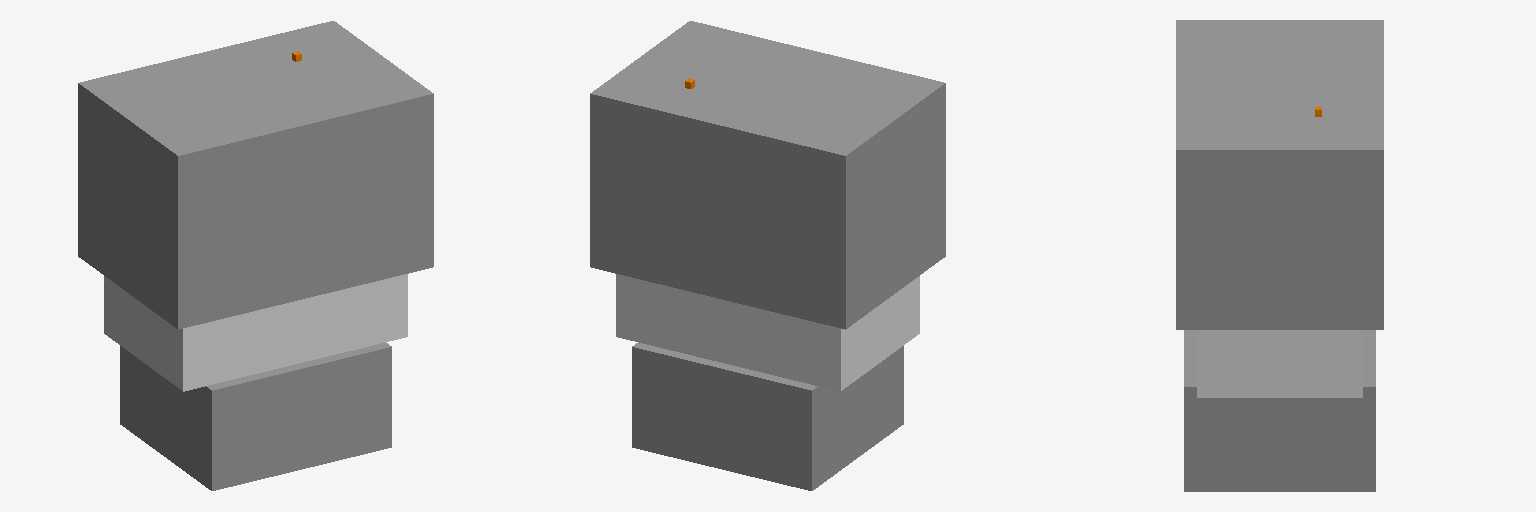
URDF robot description (assembly_simplified_tall):
<!--URDF generated by ONSHAPE BY PTC INC, 1.221-->
<robot name="assembly_simplified_tall">
    <link name="electronics">
        <inertial>
            <mass value="0.071506" />
            <origin xyz="4.01582e-18 2.1684e-19 0.0181" rpy="0 -0 0" />
            <inertia ixx="1.63229e-05" ixy="0" ixz="0" iyy="2.63623e-05" iyz="0" izz="2.70679e-05" />
        </inertial>
        <visual>
            <origin xyz="3.21266e-18 1.34461e-34 -0.0254042" rpy="0 -0 0" />
            <geometry>
                <mesh filename="package://assembly_simplified_tall/meshes/Electronics.stl" scale="1 1 1" />
            </geometry>
            <material name="0.647059_0.647059_0.647059_0.000000_0.000000">
                <color rgba="0.647059 0.647059 0.647059 1" />
            </material>
        </visual>
    </link>
    <link name="lipos">
        <inertial>
            <mass value="0.040025" />
            <origin xyz="2.36507e-18 1.57209e-18 0.007625" rpy="0 -0 0" />
            <inertia ixx="3.81773e-06" ixy="0" ixz="0" iyy="8.81675e-06" iyz="0" izz="1.10831e-05" />
        </inertial>
        <visual>
            <origin xyz="2.36507e-18 0.00015 -0.0101542" rpy="0 -0 0" />
            <geometry>
                <mesh filename="package://assembly_simplified_tall/meshes/Lipos.stl" scale="1 1 1" />
            </geometry>
            <material name="0.901961_0.901961_0.901961_0.000000_0.000000">
                <color rgba="0.901961 0.901961 0.901961 1" />
            </material>
        </visual>
    </link>
    <link name="motor_base">
        <inertial>
            <mass value="0.0422448" />
            <origin xyz="0 -1.46515e-18 0.0290064" rpy="0 -0 0" />
            <inertia ixx="5.81773e-06" ixy="0" ixz="0" iyy="6.9916e-06" iyz="0" izz="9.70056e-06" />
        </inertial>
        <visual>
            <origin xyz="0 0 0.0293586" rpy="0 -0 0" />
            <geometry>
                <mesh filename="package://assembly_simplified_tall/meshes/Motor_base.stl" scale="1 1 1" />
            </geometry>
            <material name="0.647059_0.647059_0.647059_0.000000_0.000000">
                <color rgba="0.647059 0.647059 0.647059 1" />
            </material>
        </visual>
    </link>
    <link name="root" />
    <link name="sensor_imu">
        <inertial>
            <mass value="2.744e-09" />
            <origin xyz="-3.46945e-18 -1.73472e-18 0.0007" rpy="0 -0 0" />
            <inertia ixx="0" ixy="0" ixz="0" iyy="0" iyz="0" izz="0" />
        </inertial>
        <visual>
            <origin xyz="-0.013 -0.007 -0.0416042" rpy="0 -0 0" />
            <geometry>
                <mesh filename="package://assembly_simplified_tall/meshes/sensor_imu.stl" scale="1 1 1" />
            </geometry>
            <material name="0.972549_0.529412_0.003922_0.000000_0.000000">
                <color rgba="0.972549 0.529412 0.00392157 1" />
            </material>
        </visual>
    </link>
    <link name="sketch_9__1_">
        <inertial>
            <mass value="1e-09" />
            <origin xyz="0 0 0" rpy="0 -0 0" />
            <inertia ixx="4e-14" ixy="0" ixz="0" iyy="4e-14" iyz="0" izz="4e-14" />
        </inertial>
    </link>
    <link name="wheel">
        <inertial>
            <mass value="0.0281308" />
            <origin xyz="-0.007075 -8.36114e-19 -1.73472e-18" rpy="0 -0 0" />
            <inertia ixx="7.1206e-06" ixy="0" ixz="0" iyy="4.02967e-06" iyz="0" izz="4.02967e-06" />
        </inertial>
        <visual>
            <origin xyz="0.02765 1.80969e-81 0.00685857" rpy="0 -0 0" />
            <geometry>
                <mesh filename="package://assembly_simplified_tall/meshes/Wheel.stl" scale="1 1 1" />
            </geometry>
            <material name="0.972549_0.529412_0.003922_0.000000_0.000000">
                <color rgba="0.972549 0.529412 0.00392157 1" />
            </material>
        </visual>
    </link>
    <link name="wheel_1">
        <inertial>
            <mass value="0.0281308" />
            <origin xyz="-0.007075 4.33681e-19 -2.60209e-18" rpy="2.74796 -4.17097e-16 8.31691e-17" />
            <inertia ixx="7.1206e-06" ixy="0" ixz="0" iyy="4.02967e-06" iyz="0" izz="4.02967e-06" />
        </inertial>
        <visual>
            <origin xyz="0.02765 -0.0026306 -0.00633403" rpy="2.74796 -4.17097e-16 8.31691e-17" />
            <geometry>
                <mesh filename="package://assembly_simplified_tall/meshes/Wheel.stl" scale="1 1 1" />
            </geometry>
            <material name="0.972549_0.529412_0.003922_0.000000_0.000000">
                <color rgba="0.972549 0.529412 0.00392157 1" />
            </material>
        </visual>
    </link>
    <joint name="fastened_1" type="fixed">
        <origin xyz="0 0 0" rpy="0 -0 0" />
        <axis xyz="-0 -0 -1" />
        <parent link="root" />
        <child link="motor_base" />
    </joint>
    <joint name="fastened_2" type="fixed">
        <origin xyz="-4.50423e-18 -1.35525e-18 0.0395128" rpy="1.35525e-16 6.93335e-33 0" />
        <axis xyz="-1.13185e-16 -2.46519e-32 -1" />
        <parent link="motor_base" />
        <child link="lipos" />
    </joint>
    <joint name="fastened_3" type="fixed">
        <origin xyz="2.67866e-18 -3.20291e-18 0.01525" rpy="-2.46519e-32 -6.93335e-33 9.39644e-49" />
        <axis xyz="5.37867e-64 5.29287e-33 -1" />
        <parent link="lipos" />
        <child link="electronics" />
    </joint>
    <joint name="fastened_4" type="fixed">
        <origin xyz="0.013 0.007 0.0362" rpy="0 -0 0" />
        <axis xyz="0 0 -1" />
        <parent link="electronics" />
        <child link="sensor_imu" />
    </joint>
    <joint name="fastened_5" type="fixed">
        <origin xyz="0 0 0" rpy="0 -0 0" />
        <axis xyz="0 0 1" />
        <parent link="root" />
        <child link="sketch_9__1_" />
    </joint>
    <joint name="wheel_left" type="continuous">
        <origin xyz="-0.02765 0 0.0225" rpy="3.14159 -2.0349e-16 -5.54453e-18" />
        <axis xyz="1 3.20732e-48 2.1684e-16" />
        <parent link="sketch_9__1_" />
        <child link="wheel_1" />
    </joint>
    <joint name="wheel_right" type="continuous">
        <origin xyz="0.02765 0 0.0225" rpy="3.14159 -2.31296e-16 -3.14159" />
        <axis xyz="1 3.20732e-48 2.1684e-16" />
        <parent link="sketch_9__1_" />
        <child link="wheel" />
    </joint>
</robot>

--- Facts derived from the render (not from the file) ---
Views: 3 orthographic renders of the robot side by side, from view 1: azimuth 30°, elevation 25°; view 2: azimuth 150°, elevation 25°; view 3: azimuth 270°, elevation 25°.
Model assembly_simplified_tall with 8 links and 7 joints (2 continuous, 5 fixed), rooted at root, posed all joints at 0.
Links seen in each view (by area): view 1: electronics, motor_base, lipos; view 2: electronics, motor_base, lipos; view 3: electronics, motor_base, lipos.
Link boxes in pixels (bbox=[...]): electronics: bbox=[78, 21, 433, 329]; motor_base: bbox=[120, 342, 391, 490]; lipos: bbox=[104, 274, 407, 391]; electronics: bbox=[590, 21, 945, 329]; motor_base: bbox=[632, 342, 903, 490]; lipos: bbox=[616, 274, 919, 391]; electronics: bbox=[1176, 20, 1383, 329]; motor_base: bbox=[1184, 330, 1375, 491]; lipos: bbox=[1197, 330, 1362, 397].
Bounding box of the posed robot: 0.0558 × 0.0378 × 0.0739 m (x, y, z).
4 mesh visuals loaded from 5 distinct referenced files (4 binary STL); not drawn: 2 (reference not matched to a file when rendering).
